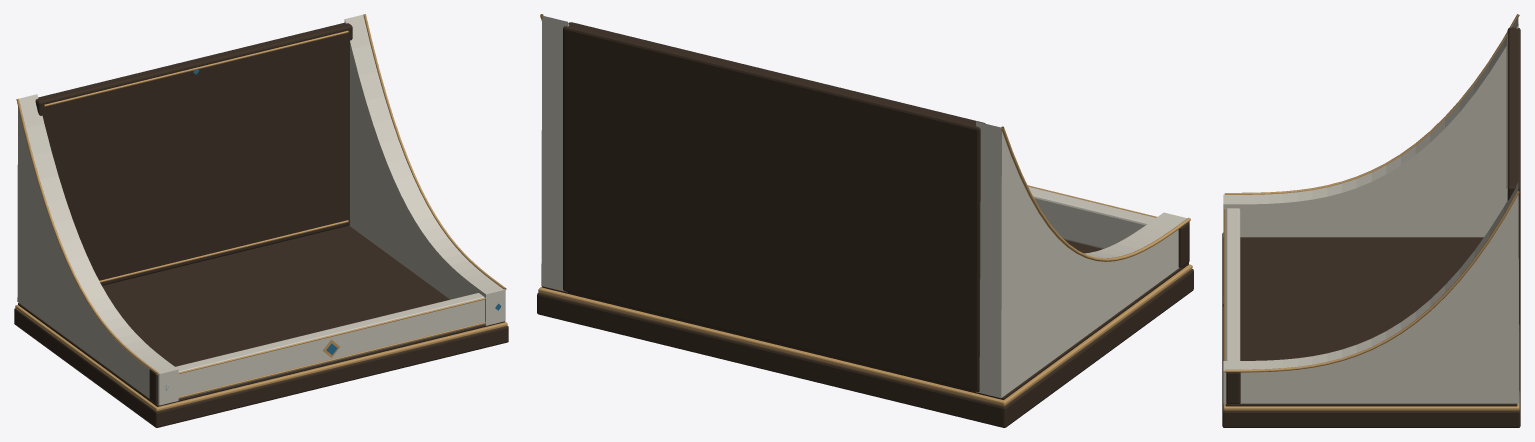
Rendered from shelf.glb.
3 renders of one model, left to right at view 1: azimuth 30°, elevation 25°; view 2: azimuth 150°, elevation 25°; view 3: azimuth 270°, elevation 25°, orthographic. The views are drawn at different scales.
Visible parts, largest first — view 1: ShelfVisual; view 2: ShelfVisual; view 3: ShelfVisual.
Boxes of the visible parts, x1,y1,x2,y2 form: ShelfVisual: [14, 14, 508, 427]; ShelfVisual: [537, 14, 1193, 427]; ShelfVisual: [1222, 14, 1520, 427].
Size of the model in its own units: 0.128 by 0.0783 by 0.0896.
